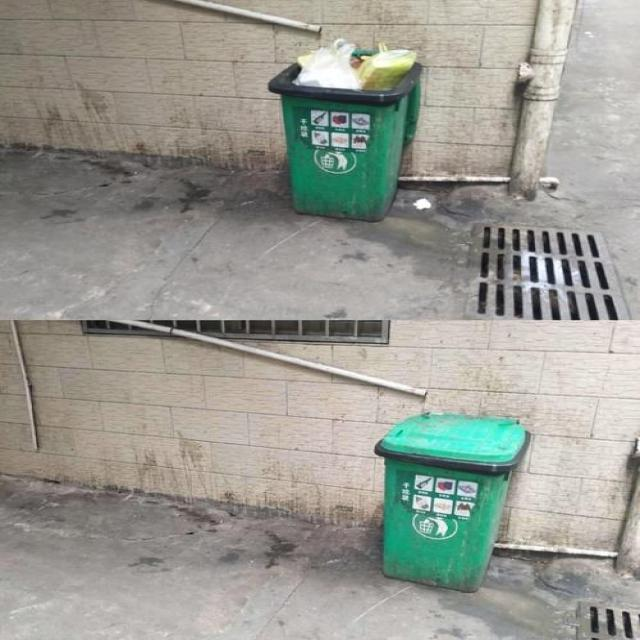garbage_bin: (372, 412, 528, 592)
overflow: (266, 38, 421, 223)
